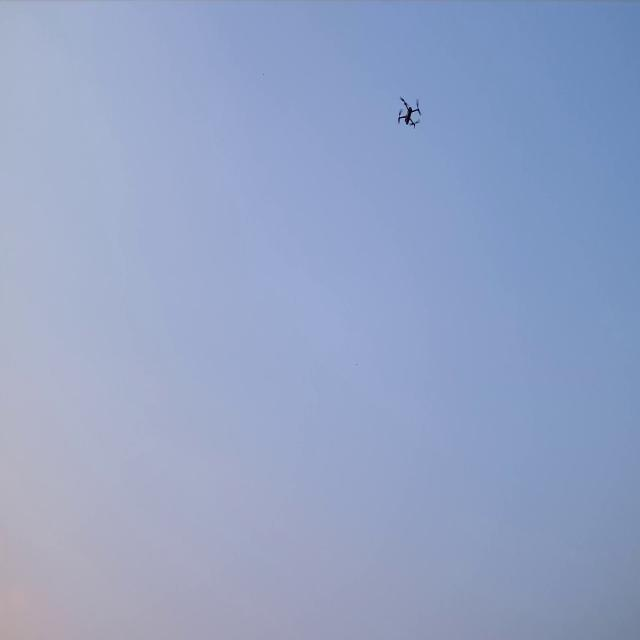UAV: (396, 94, 422, 130)
